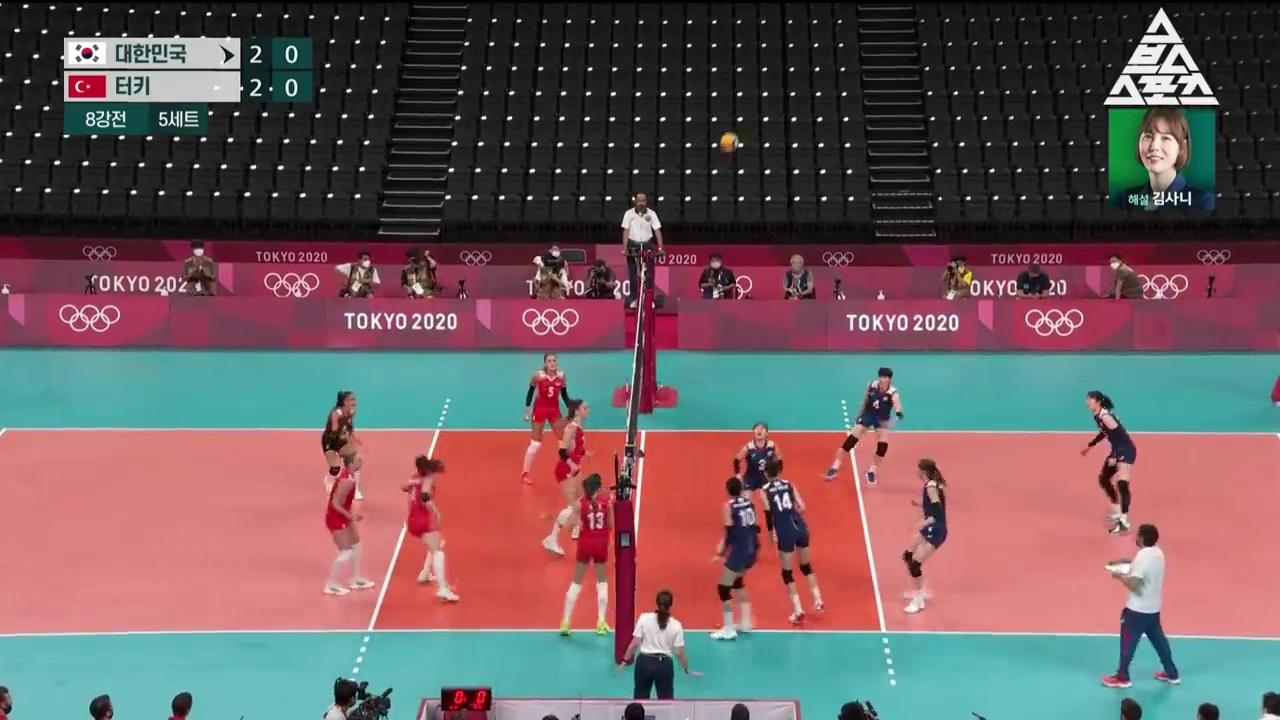ball: (721, 133, 739, 152)
player: (543, 474, 615, 636), (760, 458, 824, 624), (821, 368, 903, 485), (402, 455, 460, 601), (1081, 391, 1137, 535), (710, 478, 758, 640), (325, 449, 375, 595), (543, 400, 589, 554), (902, 459, 948, 613), (521, 353, 574, 484), (733, 424, 783, 557), (321, 391, 363, 500)
referee: (617, 591, 702, 700), (622, 193, 663, 308)
